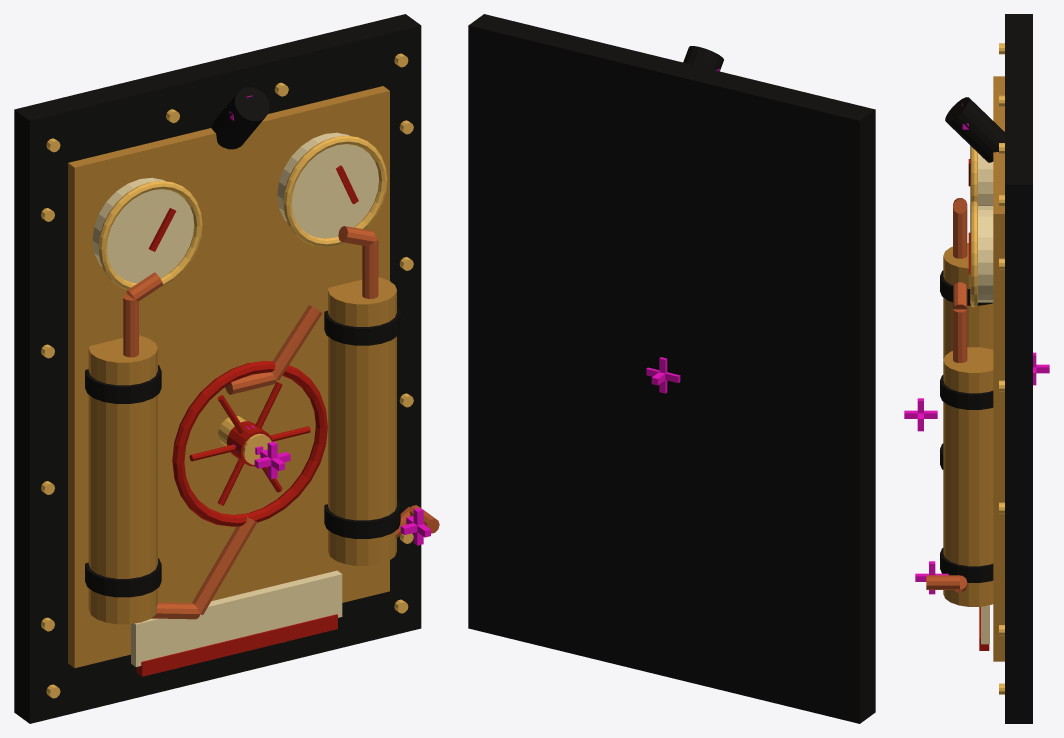
File: PROP_WallPressureStation_Blockout.obj
3 views of the same model, side by side, from view 1: azimuth 30°, elevation 25°; view 2: azimuth 150°, elevation 25°; view 3: azimuth 270°, elevation 25° (orthographic). The views are drawn at different scales.
Parts seen in each view (by area): view 1: PANEL_BrassInnerPlate, PANEL_BlackenedWallPlate, TANK_VerticalPressureCylinder_L, TANK_VerticalPressureCylinder_R, LABEL_CreamPressurePlate, GAUGE_CreamFace_02, GAUGE_CreamFace_01, MOVING_MainValveWheel_rim, LABEL_RedWarningStripe, GAUGE_BrassRim_02, GAUGE_BrassRim_01, VENT_TopSteamNozzle (+13 smaller); view 2: PANEL_BlackenedWallPlate, VENT_TopSteamNozzle; view 3: PANEL_BlackenedWallPlate, TANK_VerticalPressureCylinder_R, PANEL_BrassInnerPlate, TANK_VerticalPressureCylinder_L, VENT_TopSteamNozzle, GAUGE_CreamFace_02, TANK_BlackBandTop_R, TANK_BlackBandBottom_R, GAUGE_BrassRim_02, PIPE_CopperRun_02_01, GAUGE_CreamFace_01, PIPE_CopperRun_01_01 (+8 smaller).
Part boxes in pixels (left/top/right/bottom): PANEL_BrassInnerPlate: left=68, top=86, right=389, bottom=668; PANEL_BlackenedWallPlate: left=14, top=14, right=421, bottom=723; TANK_VerticalPressureCylinder_L: left=88, top=335, right=157, bottom=624; TANK_VerticalPressureCylinder_R: left=328, top=277, right=396, bottom=565; LABEL_CreamPressurePlate: left=131, top=570, right=342, bottom=666; GAUGE_CreamFace_02: left=277, top=132, right=378, bottom=238; GAUGE_CreamFace_01: left=92, top=178, right=194, bottom=283; MOVING_MainValveWheel_rim: left=172, top=361, right=327, bottom=526; LABEL_RedWarningStripe: left=136, top=614, right=337, bottom=676; GAUGE_BrassRim_02: left=283, top=136, right=387, bottom=246; GAUGE_BrassRim_01: left=98, top=181, right=202, bottom=290; VENT_TopSteamNozzle: left=211, top=87, right=269, bottom=149; PANEL_BlackenedWallPlate: left=468, top=14, right=875, bottom=723; VENT_TopSteamNozzle: left=683, top=46, right=723, bottom=71; PANEL_BlackenedWallPlate: left=1005, top=14, right=1032, bottom=723; TANK_VerticalPressureCylinder_R: left=943, top=347, right=993, bottom=606; PANEL_BrassInnerPlate: left=993, top=76, right=1004, bottom=661; TANK_VerticalPressureCylinder_L: left=943, top=243, right=993, bottom=359; VENT_TopSteamNozzle: left=945, top=97, right=1004, bottom=162; GAUGE_CreamFace_02: left=978, top=205, right=993, bottom=302; TANK_BlackBandTop_R: left=940, top=375, right=993, bottom=409; TANK_BlackBandBottom_R: left=940, top=548, right=993, bottom=582; GAUGE_BrassRim_02: left=970, top=201, right=977, bottom=307; PIPE_CopperRun_02_01: left=953, top=309, right=967, bottom=362; GAUGE_CreamFace_01: left=978, top=153, right=993, bottom=205; PIPE_CopperRun_01_01: left=953, top=207, right=967, bottom=258.
Bounding box in the file's own units: 0.72 × 1.06 × 0.2594.
